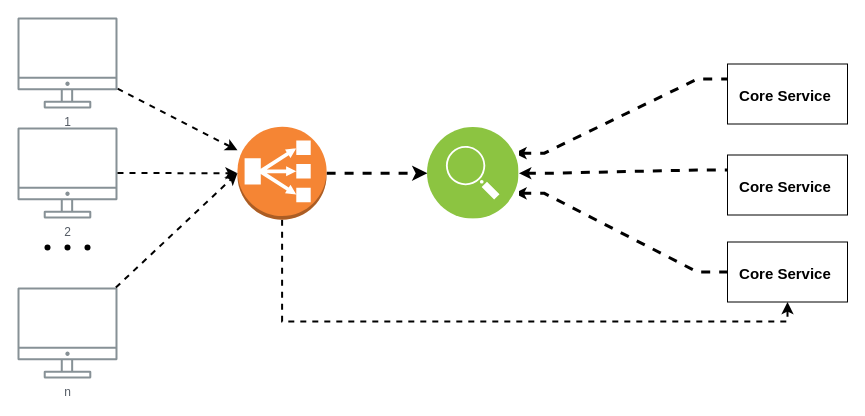
The diagram is 865 pixels wide and 416 high, and some of its shapes have lost their labels. The shapes that lost their labels are listed below. From the top down, each one's centre as x and y in pixels, then its label:
pixel 281 173: Load Balancer
pixel 472 172: Service Discovery Eureka
